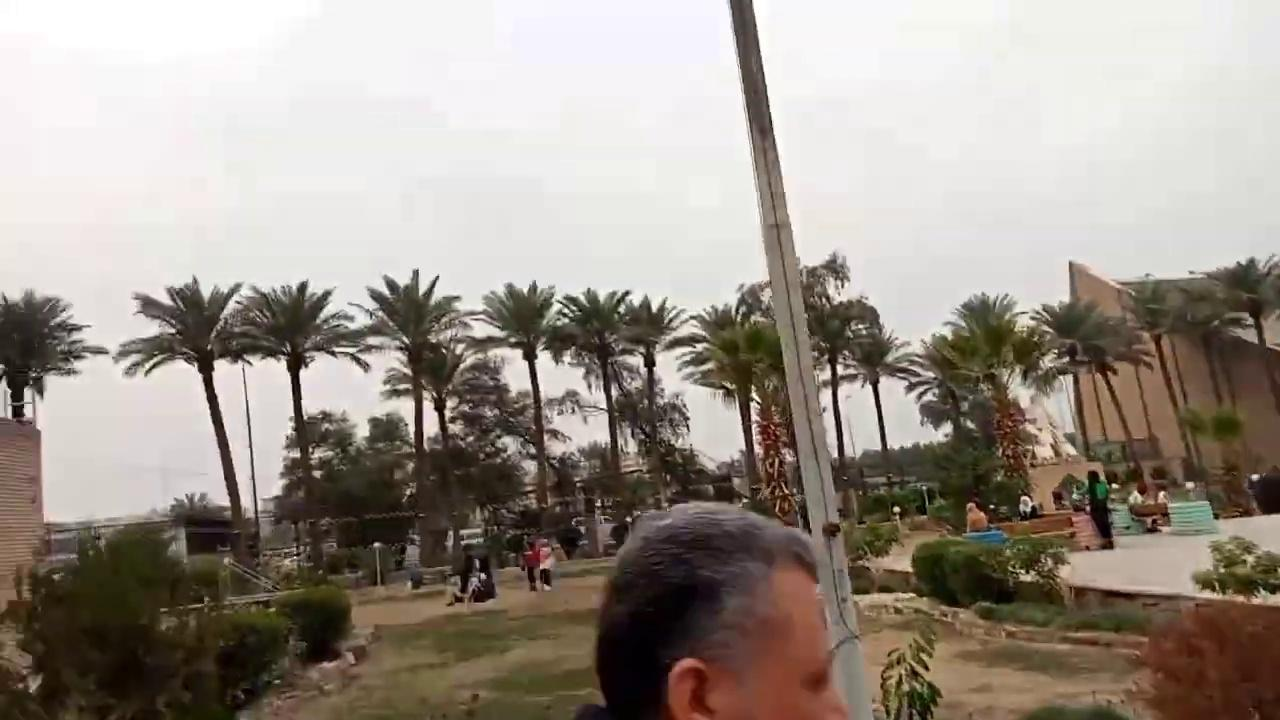person: (586, 501, 850, 719), (1087, 469, 1113, 549), (1127, 480, 1167, 532), (1254, 464, 1279, 514), (521, 539, 539, 591), (537, 539, 555, 591), (965, 501, 988, 532), (1018, 490, 1033, 520)
tree: (112, 273, 275, 566), (232, 278, 368, 573), (347, 267, 474, 566), (734, 250, 878, 476), (1117, 273, 1241, 485), (464, 278, 570, 520), (417, 346, 532, 555), (667, 303, 785, 505), (938, 290, 1047, 495), (544, 286, 640, 517), (903, 333, 999, 531), (1029, 295, 1130, 461), (615, 293, 688, 508), (0, 286, 108, 423), (1188, 252, 1279, 414), (801, 292, 880, 470), (276, 407, 358, 568), (840, 322, 918, 479), (1089, 310, 1156, 480), (905, 332, 976, 439), (877, 628, 942, 718)
